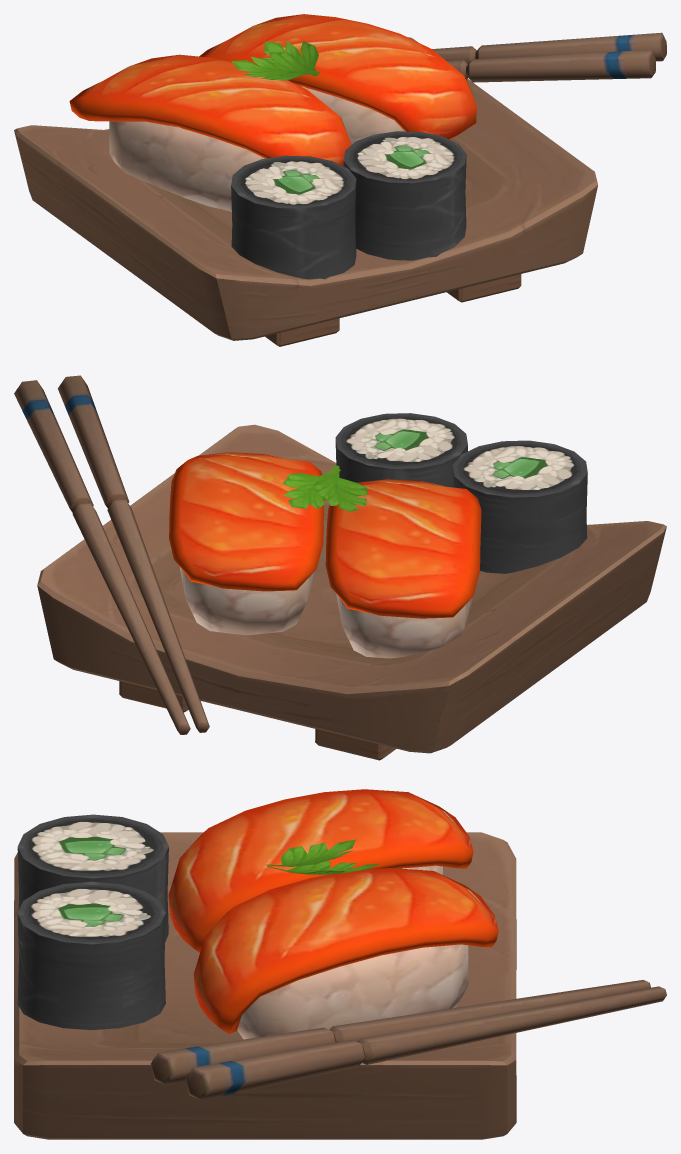
The model's file is sushi.glb.
3 renders of one model, top to bottom at view 1: azimuth 30°, elevation 25°; view 2: azimuth 150°, elevation 25°; view 3: azimuth 270°, elevation 25°, orthographic. The views are drawn at different scales.
Visible parts, largest first — view 1: Box005_Material #27_0; view 2: Box005_Material #27_0; view 3: Box005_Material #27_0.
Part boxes in pixels (bbox=[...]): Box005_Material #27_0: bbox=[14, 14, 666, 346]; Box005_Material #27_0: bbox=[14, 375, 666, 760]; Box005_Material #27_0: bbox=[14, 789, 666, 1139].
Bounding box in the file's own units: 0.7475 × 0.2373 × 0.6599.
Materials: 1 (1 with a texture image).
